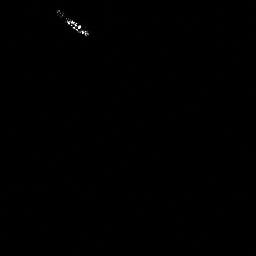ship: (54, 8, 90, 37)
